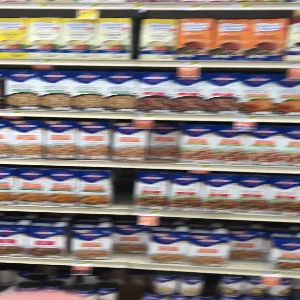void: (110, 172, 136, 212)
